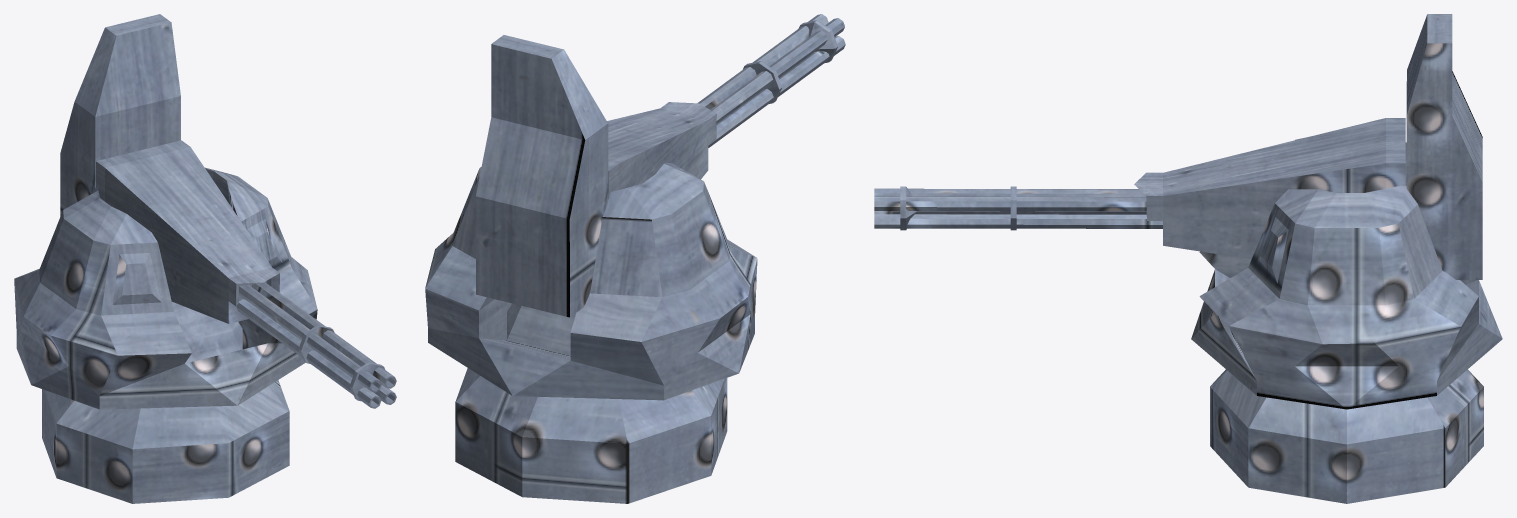
The model's file is ciws.obj.
The picture shows the model from 3 angles, left to right: view 1: azimuth 30°, elevation 25°; view 2: azimuth 150°, elevation 25°; view 3: azimuth 270°, elevation 25°; orthographic projection. The views are drawn at different scales.
Parts seen in each view (by area): view 1: ciws; view 2: ciws; view 3: ciws.
Boxes of the visible parts, box(x1,y1,x2,y2) form: ciws: box(14, 14, 396, 503); ciws: box(425, 14, 845, 503); ciws: box(874, 14, 1502, 503).
Bounding box in the file's own units: 3.43 × 4.77 × 6.38.
